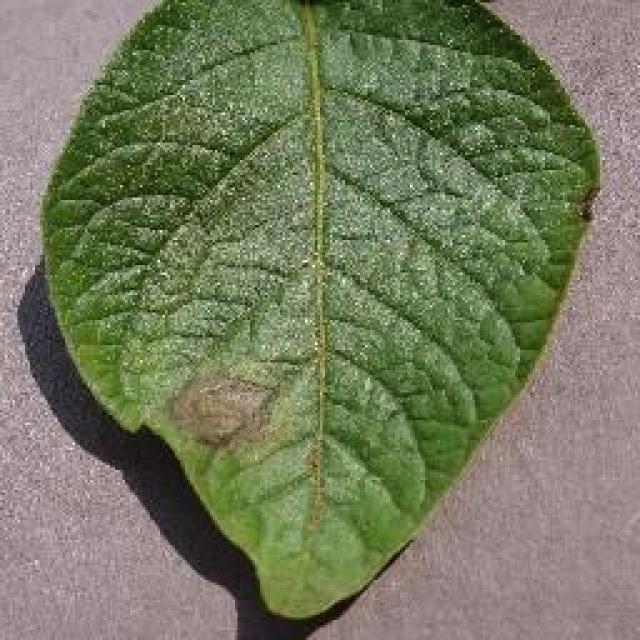Potato___Late_blight: (38, 0, 608, 624)
